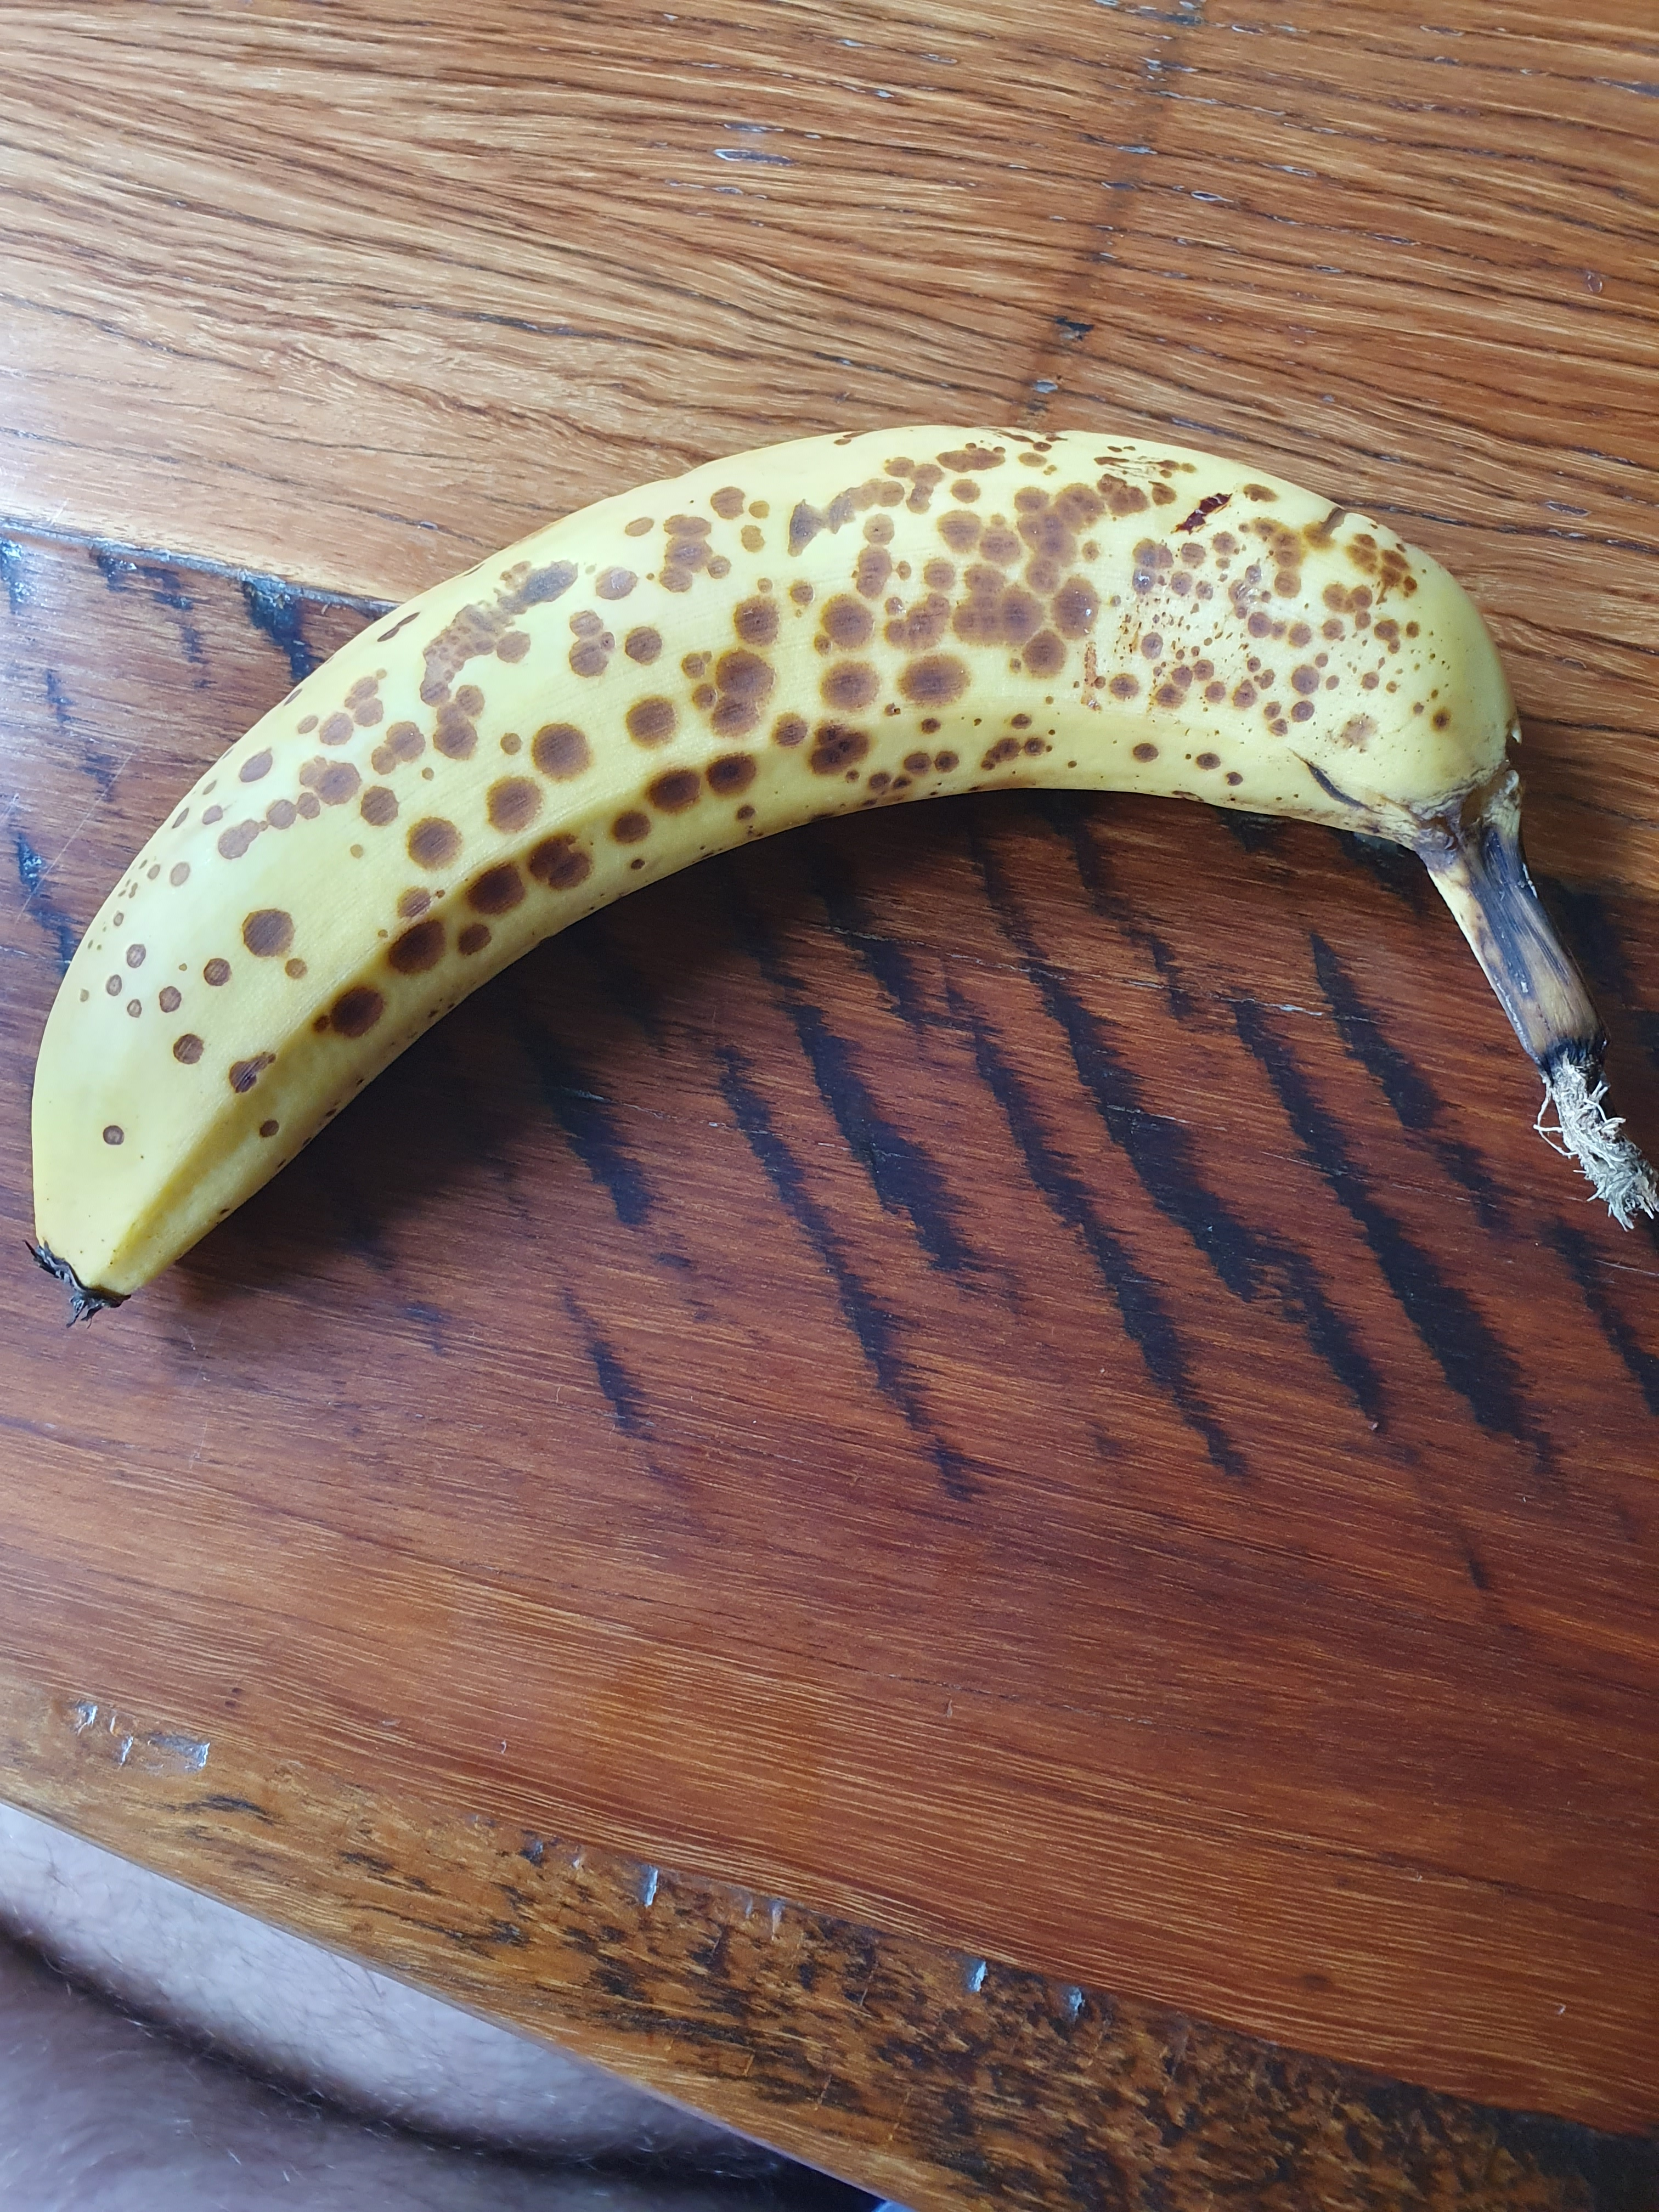banana: (14, 334, 1659, 1388)
